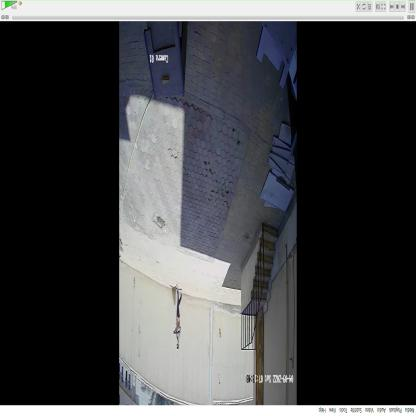handgun: (170, 324, 182, 337)
